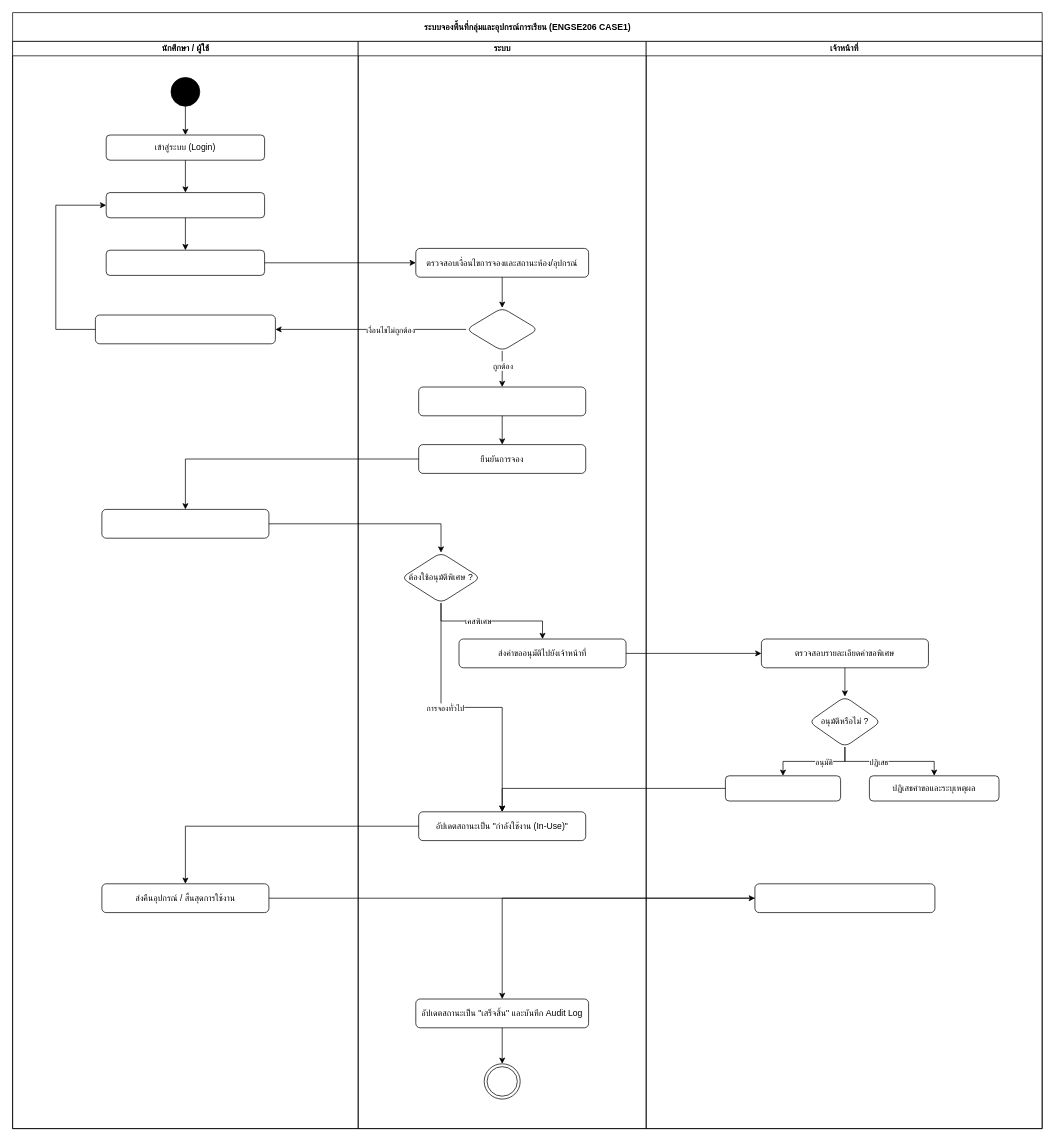
This 1055x1141 diagram has some shape labels left out. Here are the shapes that lost their labels. From the top down, the centre of each, then its label:
At (185,205): "ค้นหาห้อง/พื้นที่ และอุปกรณ์ที่ต้องการ".
At (185,262): "ระบุจำนวนคน/เวลา และส่งคำขอจอง".
At (185,329): "แสดงข้อความแจ้งเตือน (เงื่อนไขไม่ถูกต้อง/เวลาซ้อน)".
At (501,329): "เงื่อนไขถูกต้อง ?".
At (502,401): "บันทึกการจองและตัดสต็อกอุปกรณ์".
At (185,523): "ยืนยันการเข้าใช้งาน (Check-in)".
At (783,788): "อนุมัติคำขอการจอง".
At (844,898): "ตรวจรับอุปกรณ์และบันทึกสภาพ (ปกติ/ชำรุด)".
